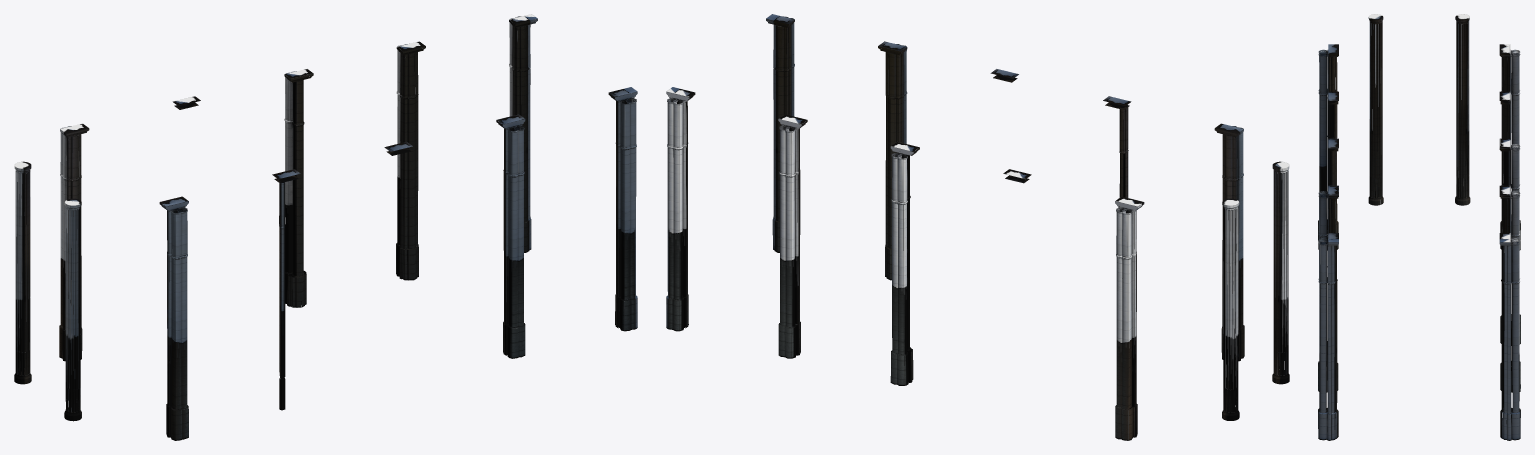
Rendered from InnerPillar_one.obj.
3 views of the same model, side by side, from view 1: azimuth 30°, elevation 25°; view 2: azimuth 150°, elevation 25°; view 3: azimuth 270°, elevation 25° (orthographic). The views are drawn at different scales.
Parts seen in each view (by area): view 1: Cylinder.004_0.005; view 2: Cylinder.004_0.005; view 3: Cylinder.004_0.005.
Boxes of the visible parts, left/top/right/bottom form: Cylinder.004_0.005: left=14, top=14, right=637, bottom=440; Cylinder.004_0.005: left=666, top=14, right=1289, bottom=440; Cylinder.004_0.005: left=1318, top=14, right=1520, bottom=440.
Size of the model in its own units: 33.32 by 13.55 by 12.5.
